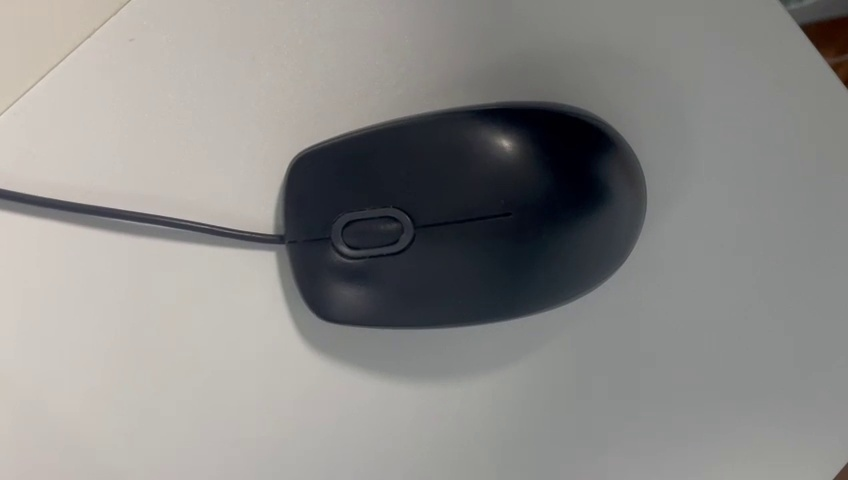objeto: (261, 69, 680, 363)
